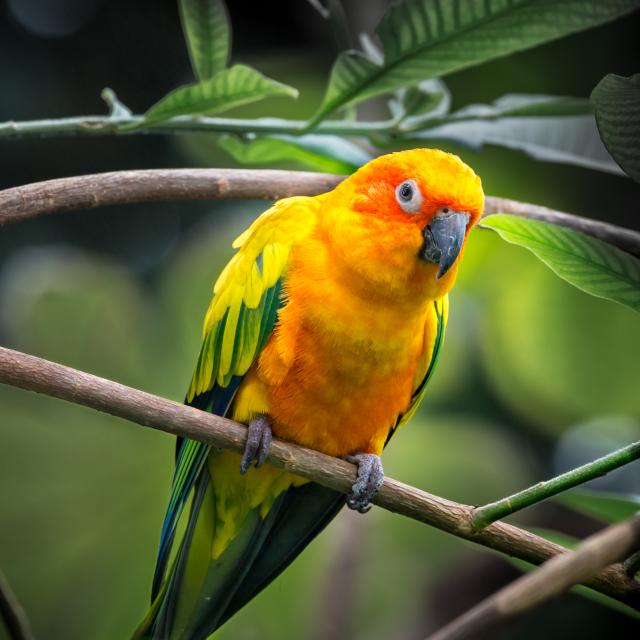Parrot: (147, 144, 489, 633)
